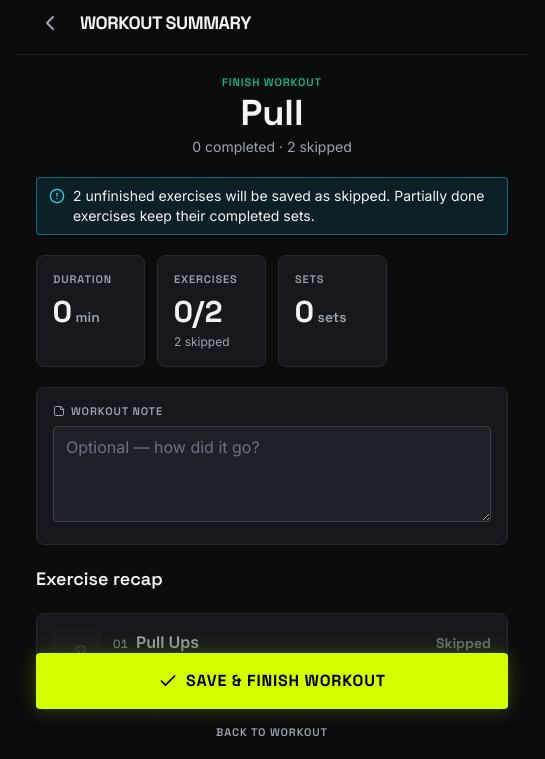
Test: phone workout flow › finishes early and stores the session in history
Expected: the text "2 unfinished exercises will be saved as skipped" is shown, 73,186 -> 495,226
Click the button "Save & finish workout" at (272, 681), box 36,653 -> 508,709
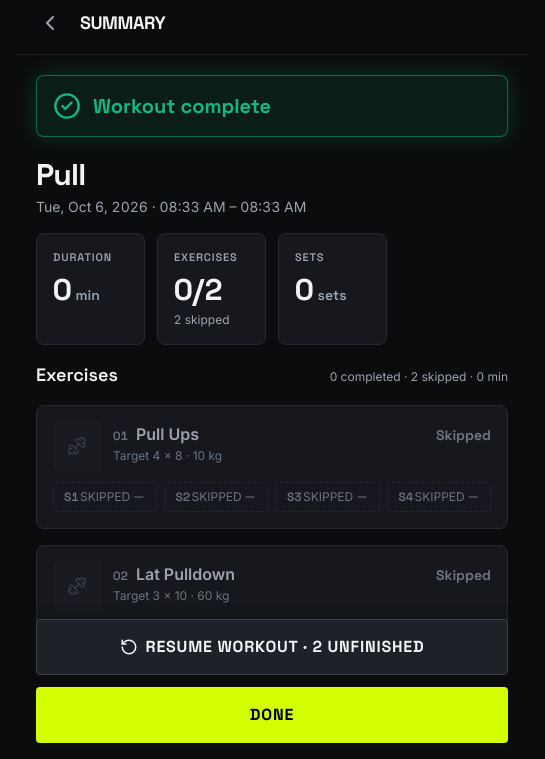
Result: the text "Workout complete" is shown at 93,92 -> 271,120
